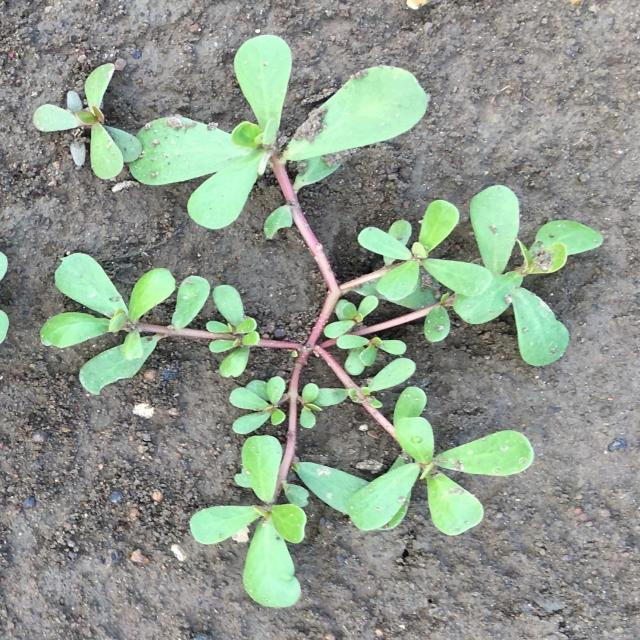Purslane: (39, 34, 604, 609), (33, 63, 143, 179)
